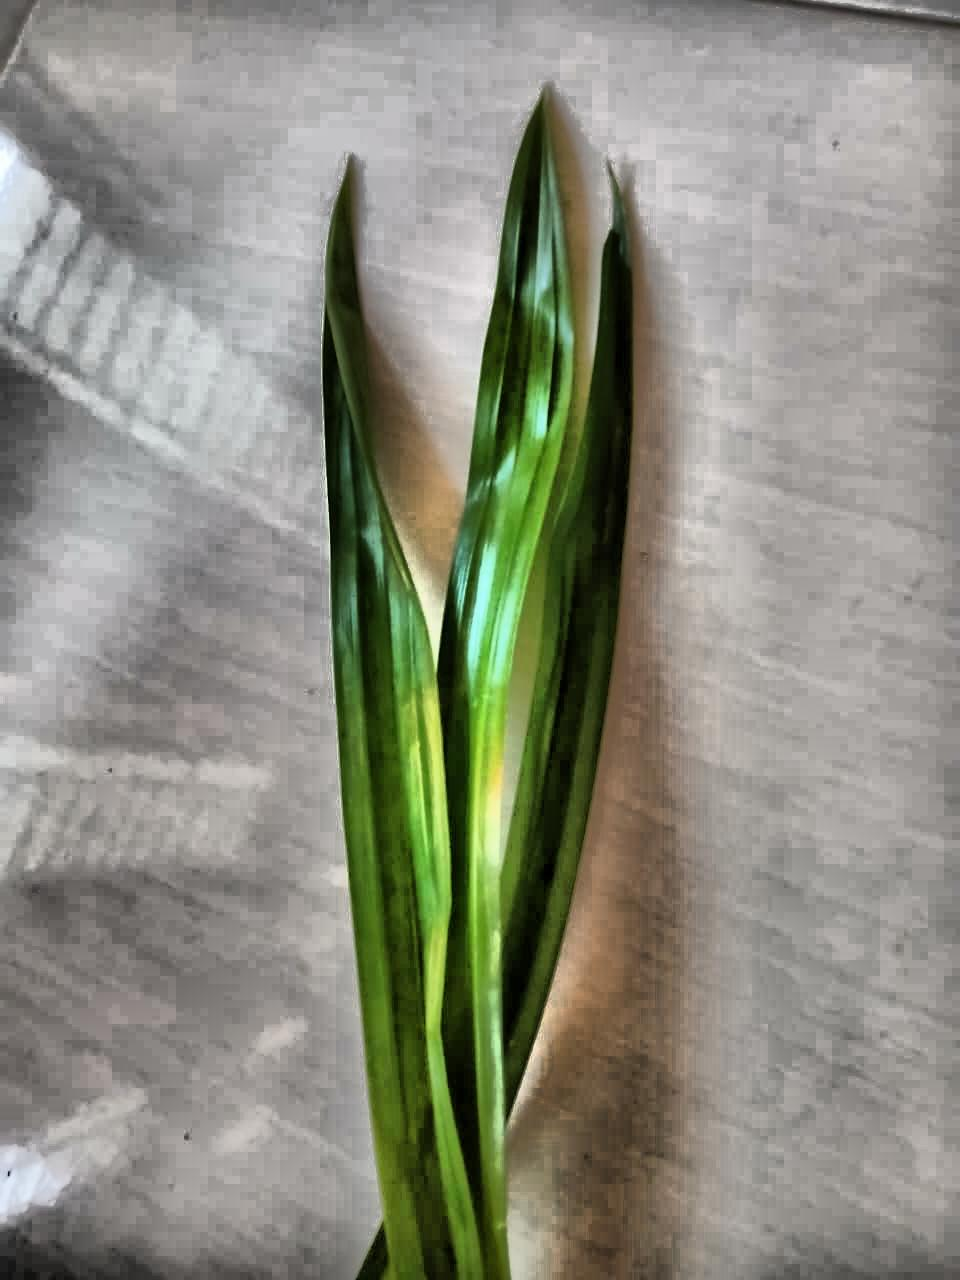daun pandan: (322, 98, 634, 1279)
